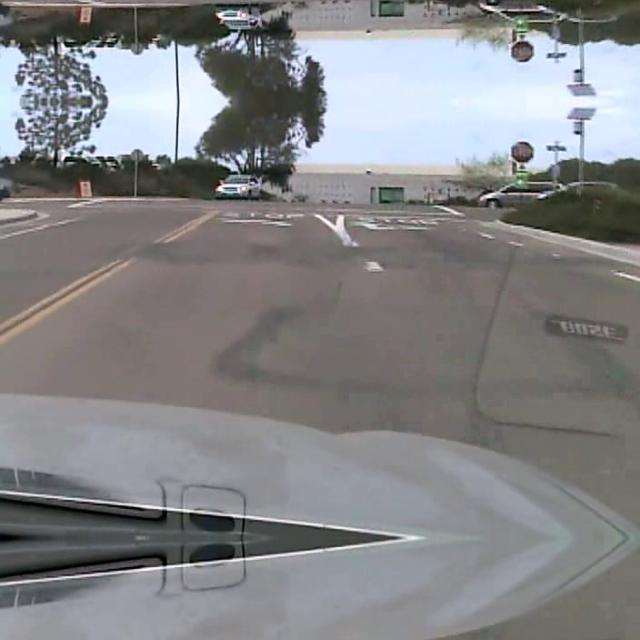stop: (510, 139, 534, 161), (510, 41, 534, 63)
